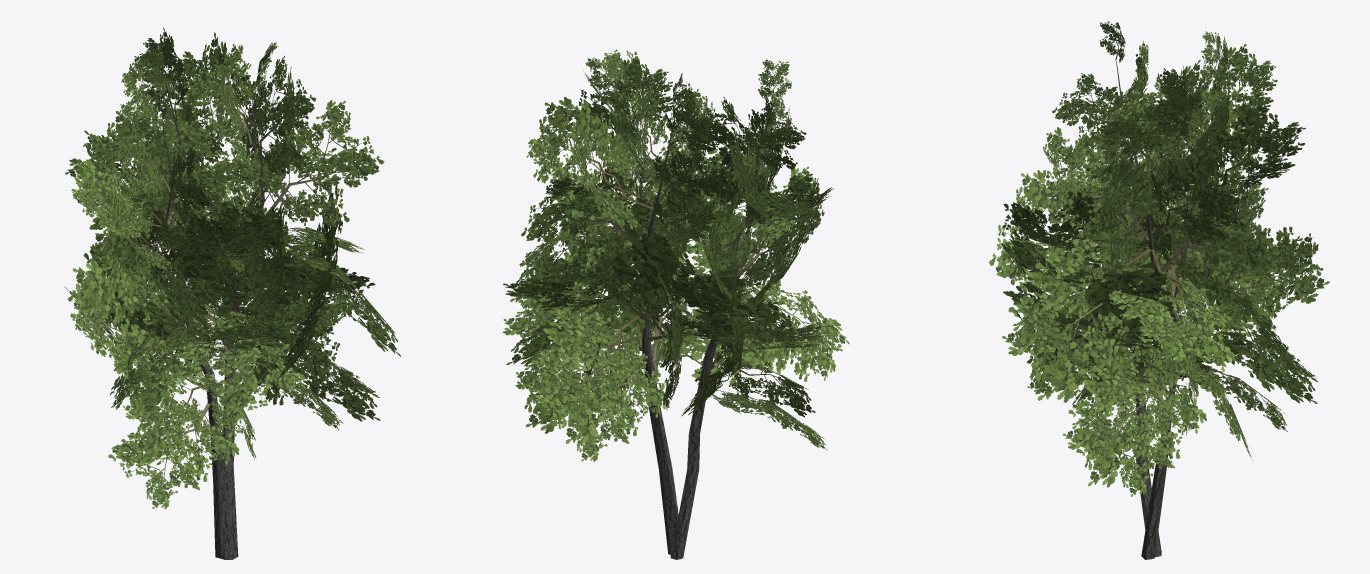
File: Tree-03-2.gltf
3 views of the same model, side by side, from view 1: azimuth 30°, elevation 25°; view 2: azimuth 150°, elevation 25°; view 3: azimuth 270°, elevation 25° (orthographic).
Parts seen in each view (by area): view 1: Tree-03-2; view 2: Tree-03-2; view 3: Tree-03-2.
Boxes of the visible parts, x1,y1,x2,y2 form: Tree-03-2: (64, 28, 401, 559); Tree-03-2: (502, 49, 849, 559); Tree-03-2: (988, 21, 1329, 559).
Bounding box in the file's own units: 6.59 × 8.68 × 6.63.
3 materials, 3 textured.
